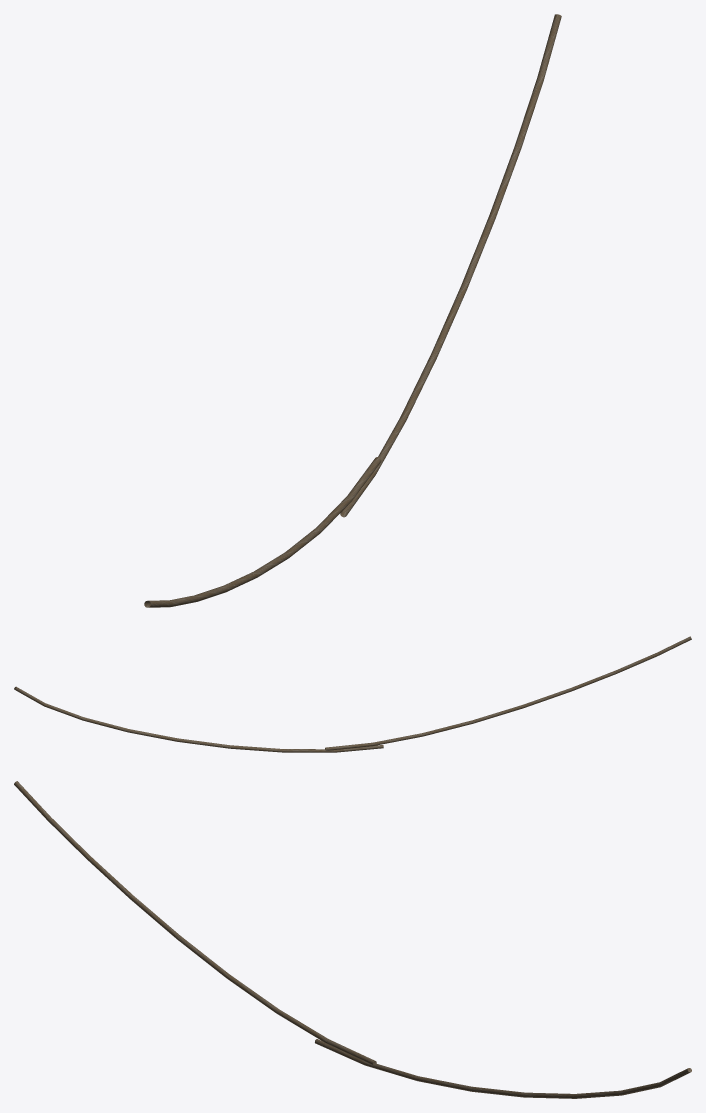
Rendered from SM_Rope_Splines_0.fbx.
The picture shows the model from 3 angles, top to bottom: view 1: azimuth 30°, elevation 25°; view 2: azimuth 150°, elevation 25°; view 3: azimuth 270°, elevation 25°; orthographic projection. The views are drawn at different scales.
Parts seen in each view (by area): view 1: SM_Rope_Splines_0_LOD0; view 2: SM_Rope_Splines_0_LOD0; view 3: SM_Rope_Splines_0_LOD0.
Boxes of the visible parts, bbox=[...] form: SM_Rope_Splines_0_LOD0: bbox=[144, 14, 561, 607]; SM_Rope_Splines_0_LOD0: bbox=[14, 636, 691, 752]; SM_Rope_Splines_0_LOD0: bbox=[14, 781, 691, 1098].
Bounding box in the file's own units: 858 × 795 × 183.
